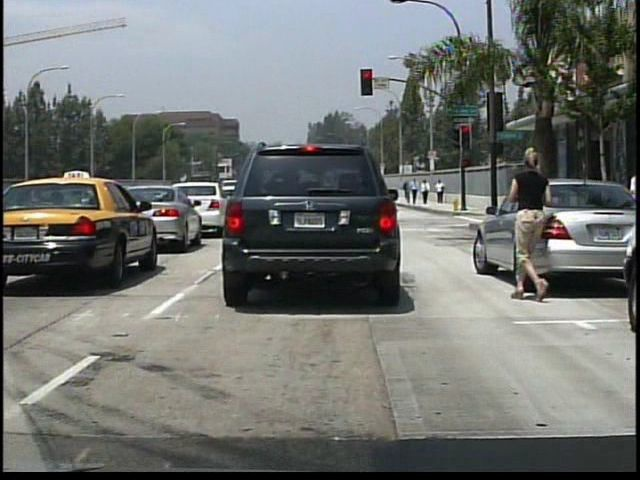person: (507, 134, 560, 306), (434, 177, 446, 204), (410, 177, 421, 204), (421, 178, 430, 204), (404, 179, 412, 201)
